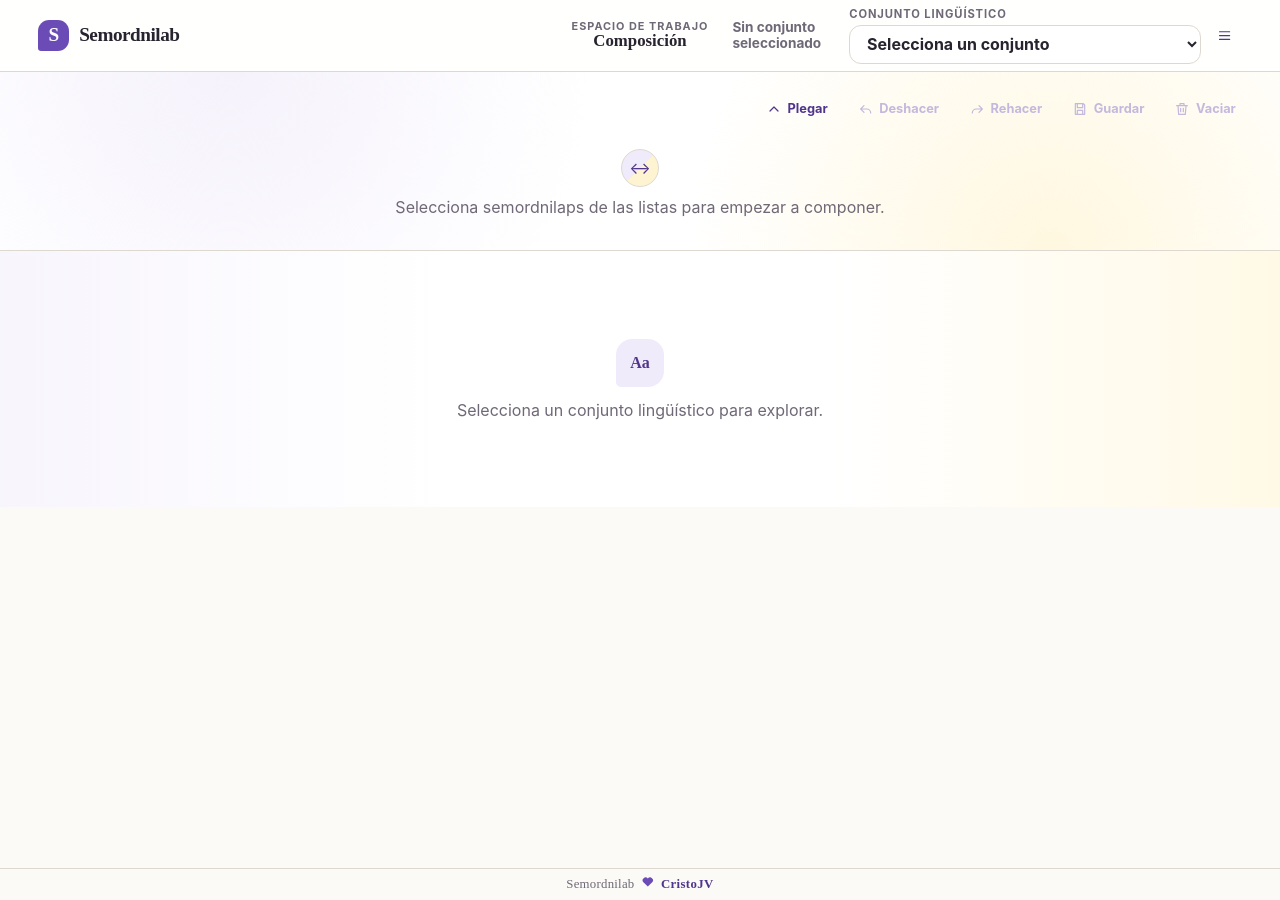
Test: WorkspacePage › descarta un favorito de forma exclusiva y deshacer recupera su estado
Select "Español / Gallego" in the dropdown labelled "Conjunto lingüístico" at point(1025, 44), box [849, 25, 1201, 64]
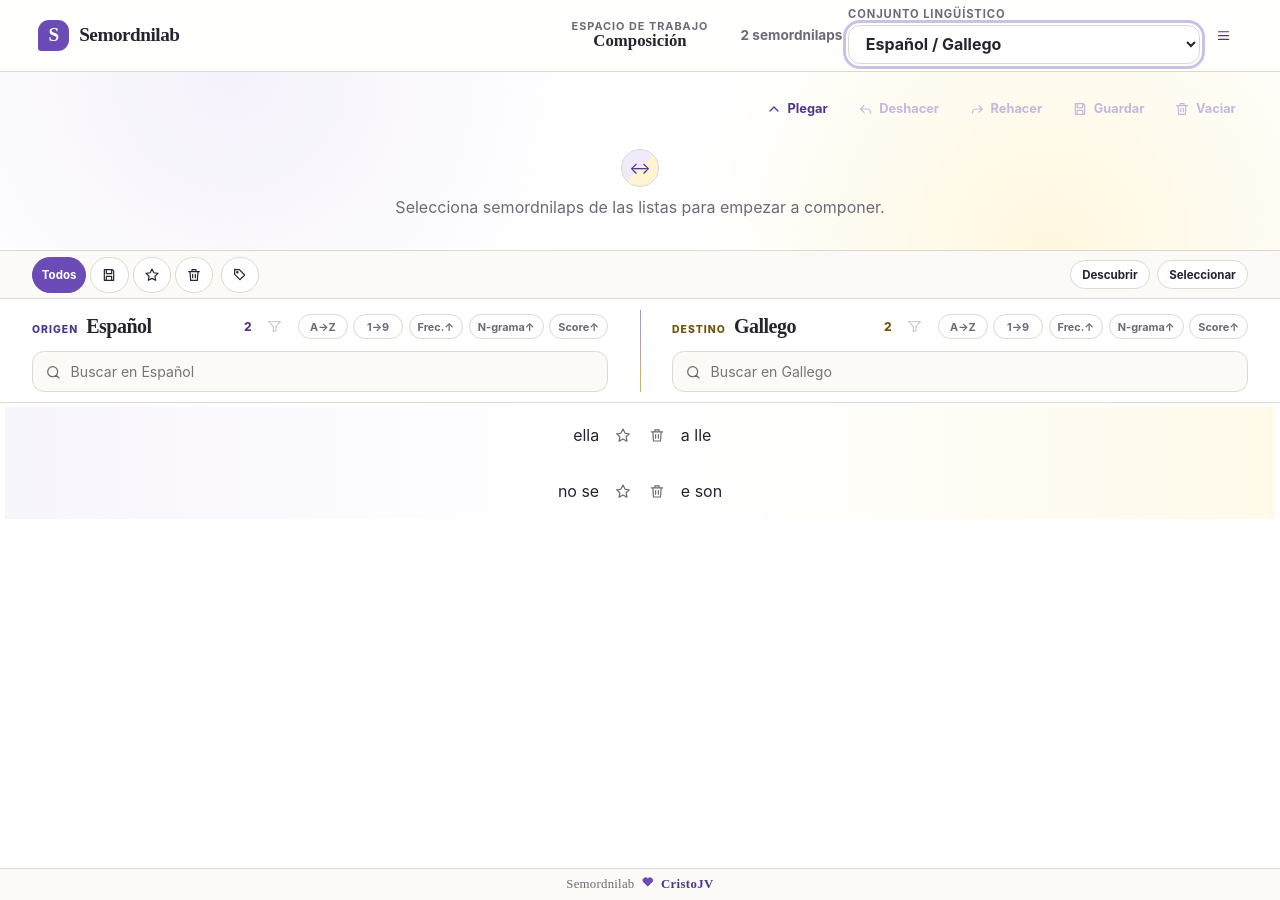
Click the button named "Añadir a favoritos: ella / a lle".
click(623, 436)  # box [608, 420, 638, 451]
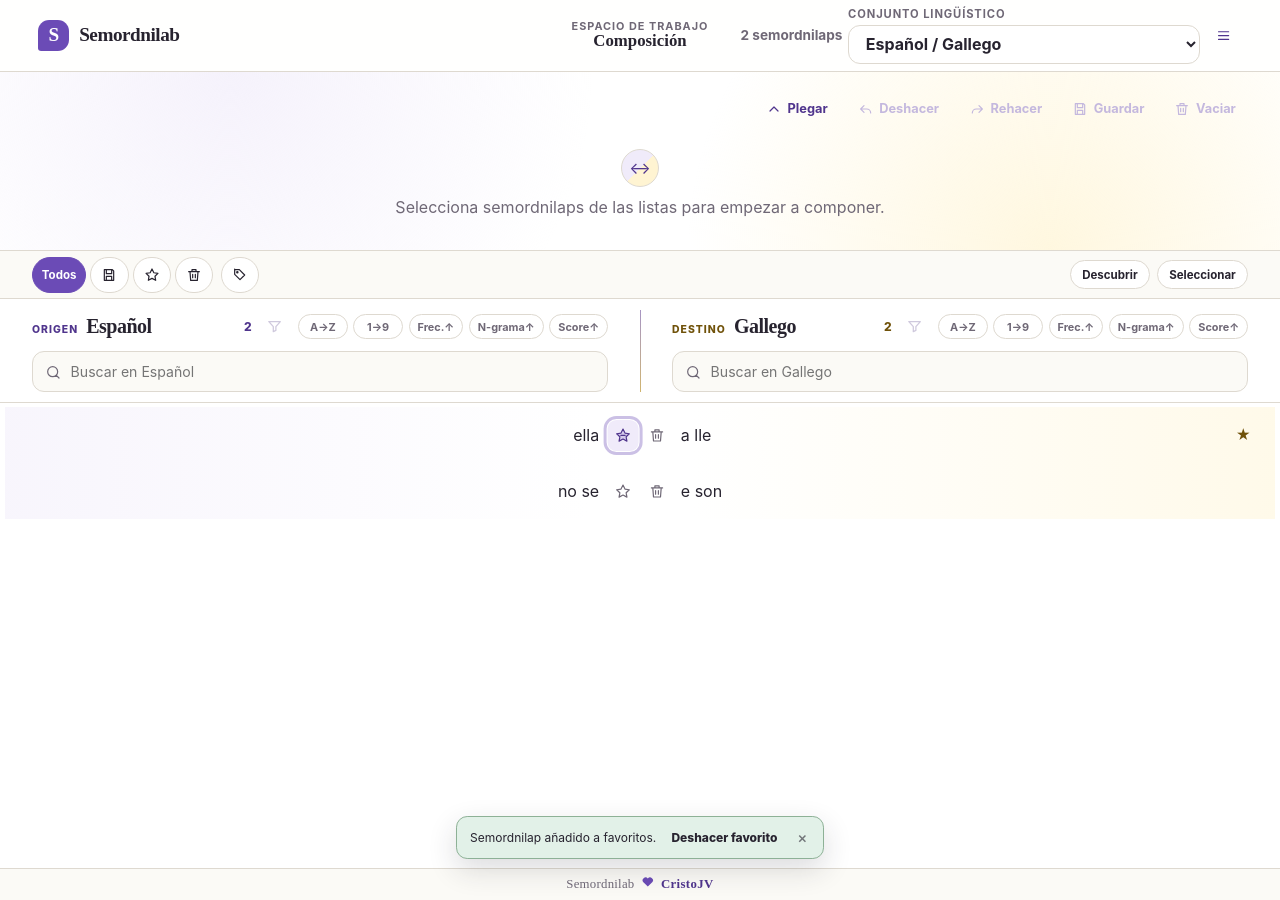
Click the button named "Descartar: ella / a lle".
click(657, 436)  # box [642, 420, 672, 451]
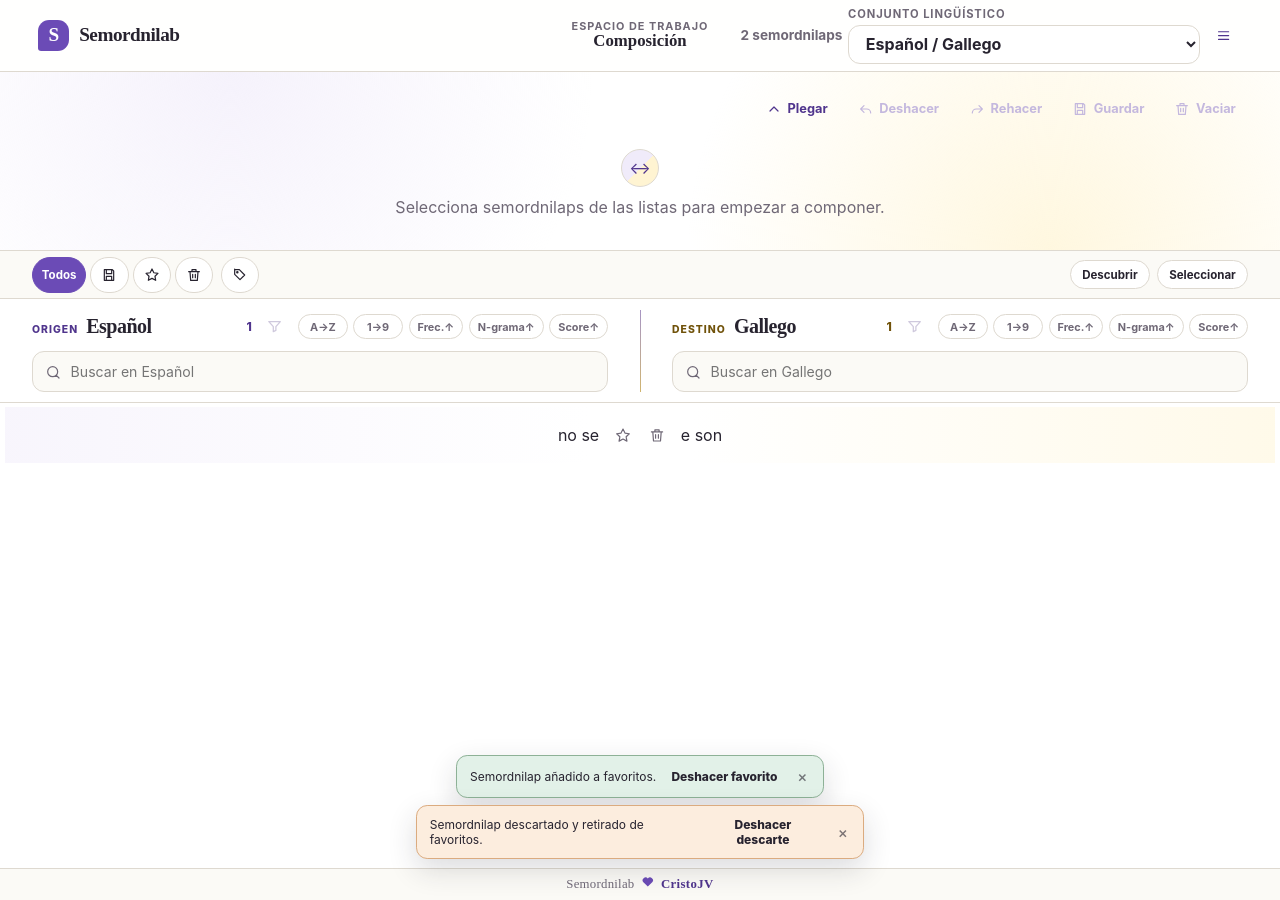
Check: the button named "Favoritos 0" is shown, box [133, 257, 171, 293]
Check: the text "Semordnilap descartado y retirado de favoritos." is shown, box [430, 817, 644, 847]
Click the button "Deshacer descarte".
click(763, 832)  # box [703, 815, 822, 849]
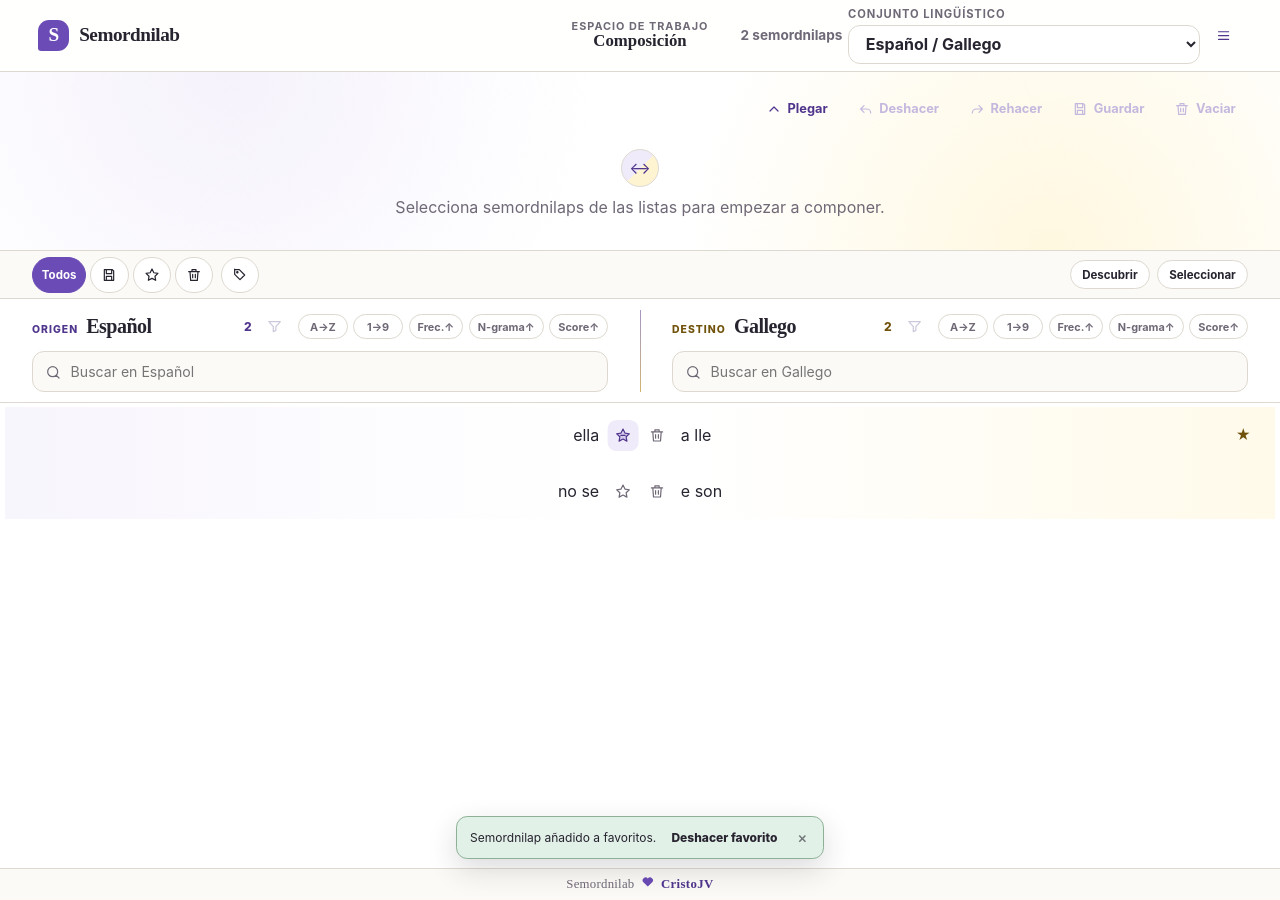
Check: the button named "Favoritos 1" is shown, box [133, 257, 171, 293]
Check: the button named "Quitar de favoritos: ella / a lle" is shown, box [608, 420, 638, 451]
